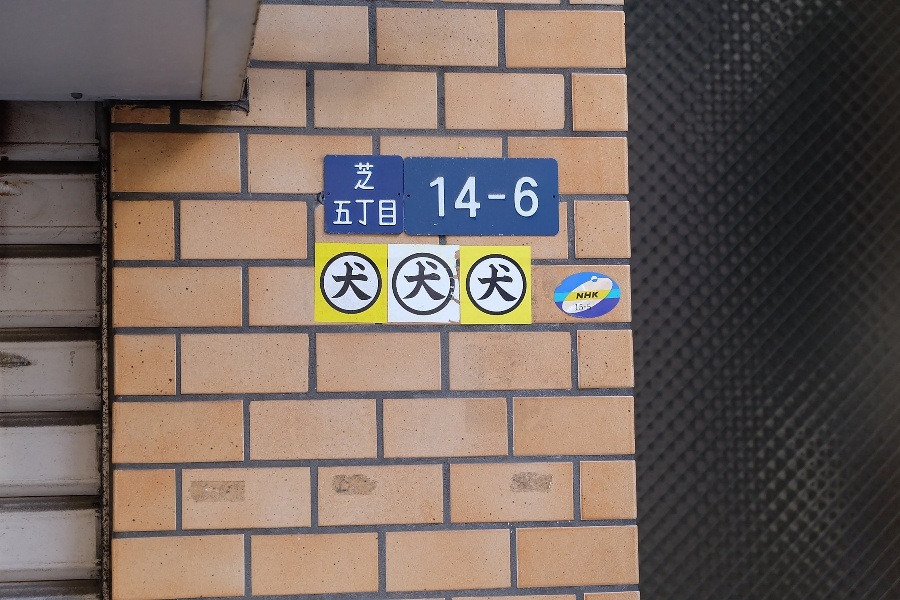text: (433, 177, 448, 218), (449, 177, 464, 218), (465, 177, 480, 218), (481, 177, 496, 218), (497, 177, 512, 218), (513, 177, 528, 218), (337, 262, 352, 301), (353, 262, 368, 301), (417, 262, 432, 301), (481, 264, 496, 302), (497, 264, 512, 302), (433, 262, 446, 301), (404, 262, 416, 301), (529, 177, 539, 218), (337, 200, 352, 227), (353, 200, 368, 227), (369, 200, 384, 227), (354, 163, 368, 191), (385, 200, 396, 227), (513, 264, 519, 302), (332, 262, 336, 301), (369, 262, 373, 301), (369, 163, 374, 191), (577, 292, 592, 299), (577, 304, 592, 311), (430, 177, 432, 218), (334, 200, 336, 227), (593, 292, 599, 299), (479, 264, 480, 302)
